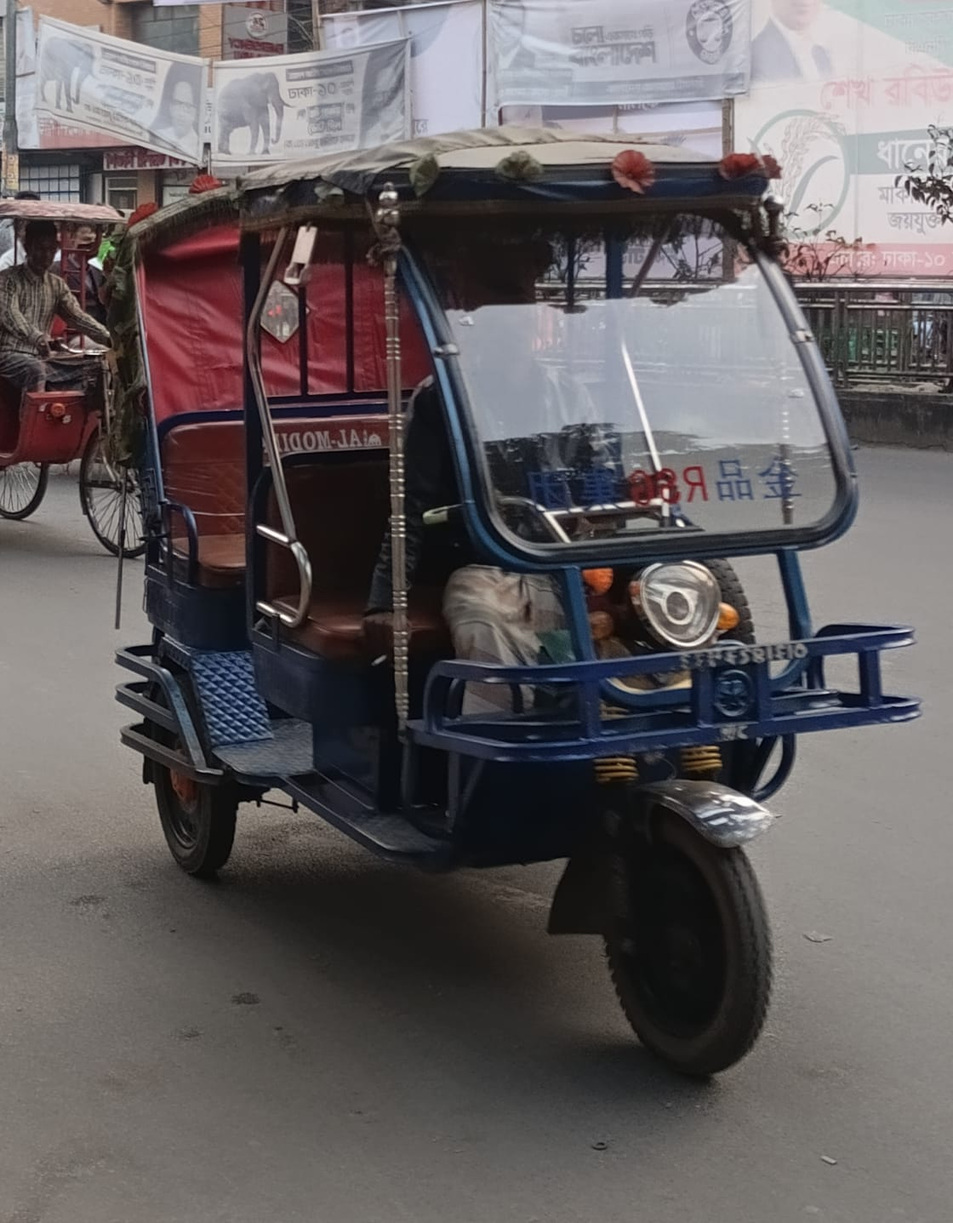auto-ricksaw: (77, 94, 953, 1088), (6, 157, 154, 605)
